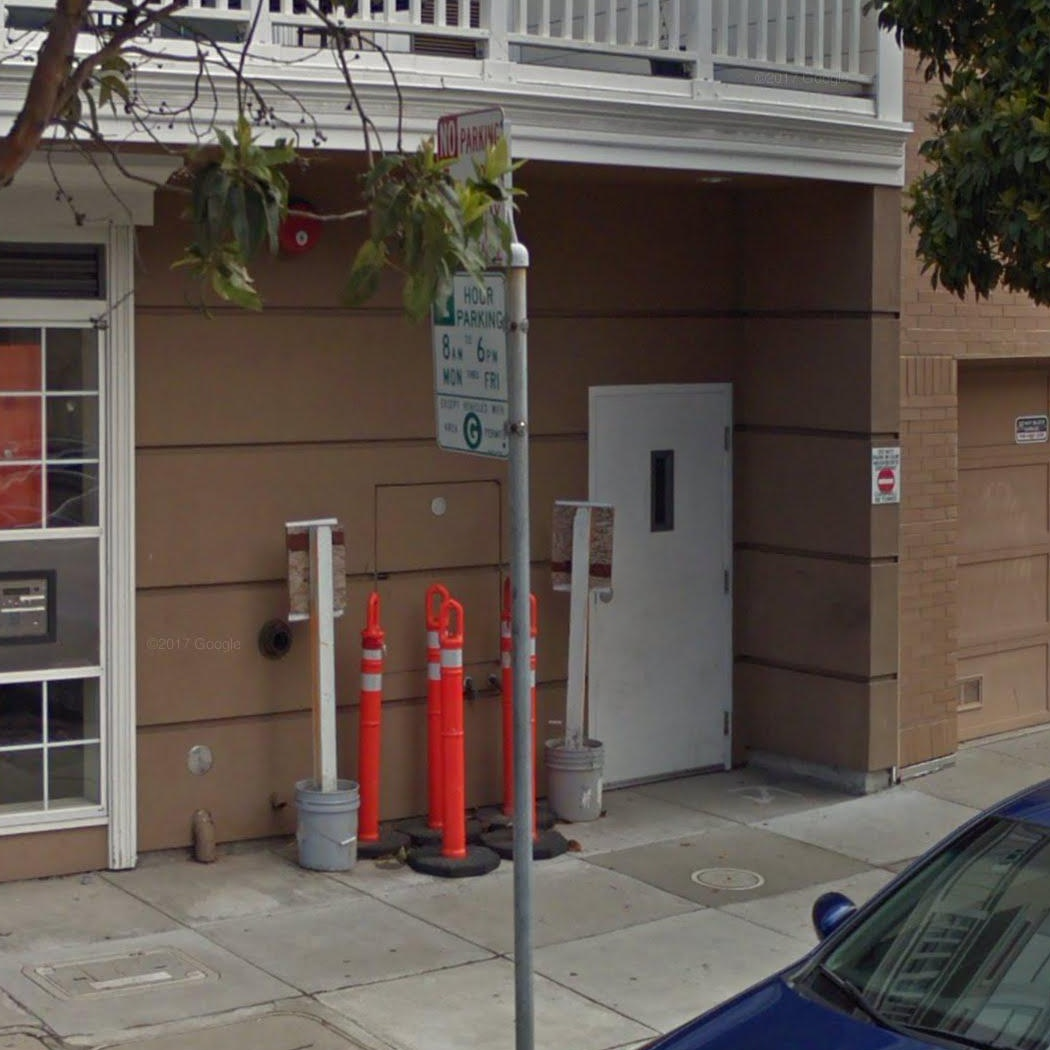1 Hour Parking: (428, 271, 512, 463)
No Parking: (435, 104, 509, 269)
